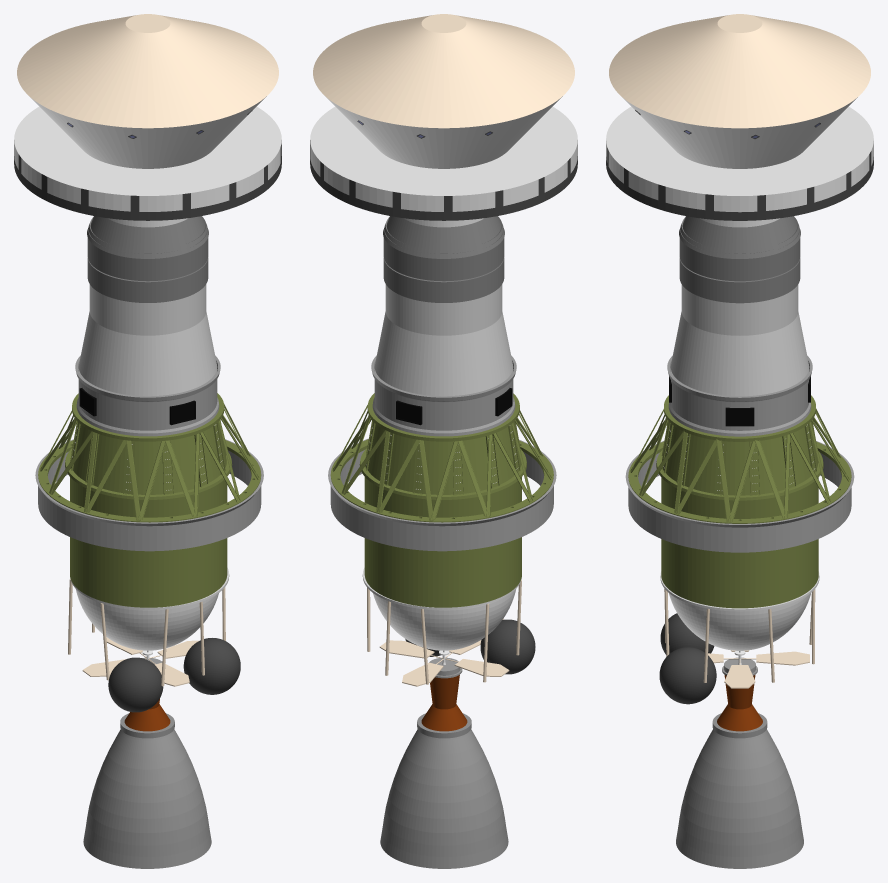
File: stage-capsule.glb
3 views of the same model, side by side, from view 1: azimuth 30°, elevation 25°; view 2: azimuth 150°, elevation 25°; view 3: azimuth 270°, elevation 25° (orthographic).
Visible parts, largest first — view 1: Cylinder.005, Cylinder.004, Cylinder.008, Cylinder.010, Cylinder.003, Cylinder.001, Cylinder.011, Cylinder.012, Cylinder.006, Cylinder.009, Sphere, Cylinder.002 (+9 smaller); view 2: Cylinder.005, Cylinder.004, Cylinder.008, Cylinder.010, Cylinder.003, Cylinder.001, Cylinder.011, Cylinder.012, Cylinder.006, Cylinder.009, Sphere, Cylinder.002 (+8 smaller); view 3: Cylinder.005, Cylinder.004, Cylinder.008, Cylinder.010, Cylinder.003, Cylinder.001, Cylinder.011, Cylinder.012, Cylinder.006, Cylinder.009, Sphere, Cylinder.002 (+9 smaller).
Part boxes in pixels (bbox=[...]): Cylinder.005: bbox=[17, 14, 278, 128]; Cylinder.004: bbox=[14, 106, 281, 220]; Cylinder.008: bbox=[83, 699, 211, 868]; Cylinder.010: bbox=[70, 477, 227, 607]; Cylinder.003: bbox=[87, 216, 208, 302]; Cylinder.001: bbox=[78, 311, 217, 396]; Cylinder.011: bbox=[65, 420, 232, 499]; Cylinder.012: bbox=[35, 439, 263, 551]; Cylinder.006: bbox=[29, 96, 266, 168]; Cylinder.009: bbox=[75, 355, 220, 436]; Sphere: bbox=[76, 589, 218, 660]; Cylinder.002: bbox=[89, 284, 206, 335]; Cylinder.005: bbox=[313, 14, 574, 128]; Cylinder.004: bbox=[310, 106, 577, 220]; Cylinder.008: bbox=[380, 675, 508, 868]; Cylinder.010: bbox=[364, 477, 521, 607]; Cylinder.003: bbox=[383, 216, 504, 302]; Cylinder.001: bbox=[374, 311, 513, 396]; Cylinder.011: bbox=[359, 420, 526, 499]; Cylinder.012: bbox=[328, 438, 556, 551]; Cylinder.006: bbox=[325, 96, 562, 168]; Cylinder.009: bbox=[371, 355, 516, 436]; Sphere: bbox=[373, 589, 515, 664]; Cylinder.002: bbox=[385, 284, 502, 335]; Cylinder.005: bbox=[609, 14, 870, 128]; Cylinder.004: bbox=[606, 106, 873, 220]; Cylinder.008: bbox=[676, 675, 803, 868]; Cylinder.010: bbox=[661, 477, 818, 608]; Cylinder.003: bbox=[679, 216, 800, 303]; Cylinder.001: bbox=[670, 311, 809, 396]; Cylinder.011: bbox=[656, 420, 823, 500]; Cylinder.012: bbox=[625, 441, 854, 552]; Cylinder.006: bbox=[622, 97, 857, 168]; Cylinder.009: bbox=[667, 356, 812, 436]; Sphere: bbox=[669, 593, 810, 664]; Cylinder.002: bbox=[681, 284, 798, 335].
Bounding box in the file's own units: 3.14 × 10.58 × 3.14.
